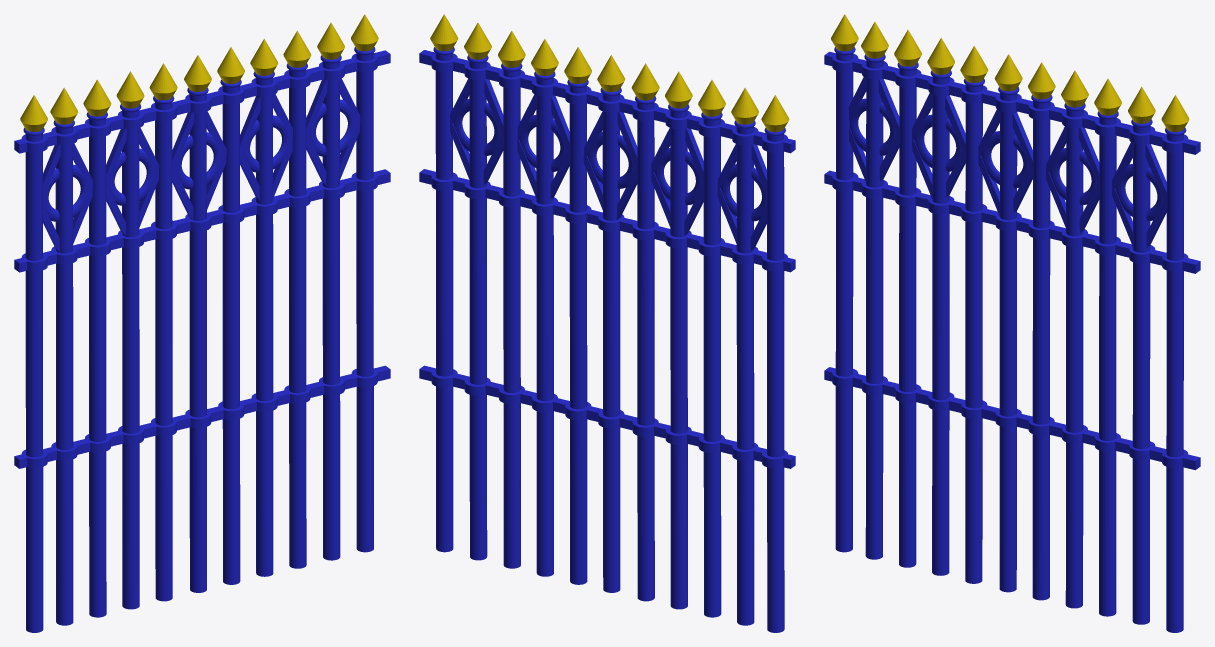
The model's file is grille2.fbx.
3 views of the same model, side by side, from view 1: azimuth 30°, elevation 25°; view 2: azimuth 150°, elevation 25°; view 3: azimuth 330°, elevation 25° (orthographic).
Visible parts, largest first — view 1: grille; view 2: grille; view 3: grille.
Boxes of the visible parts, <box> form: grille: <box>14,14,390,632</box>; grille: <box>419,14,795,632</box>; grille: <box>824,14,1200,632</box>.
Bounding box in the file's own units: 200 × 276 × 13.03.
